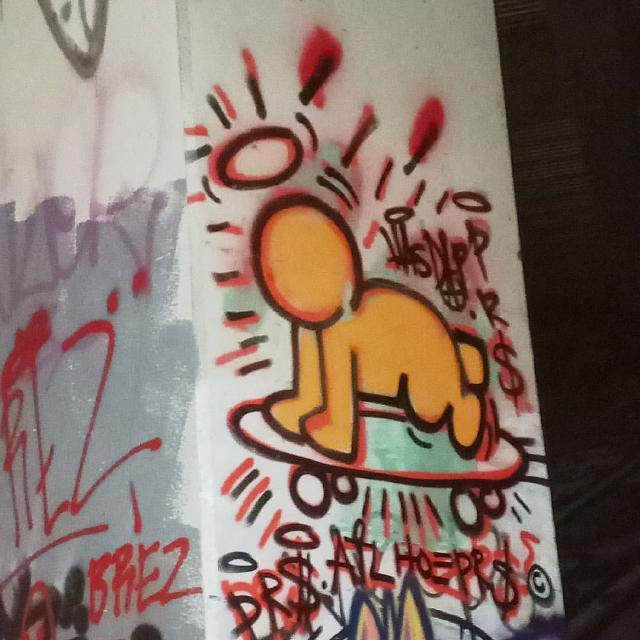-: (202, 125, 532, 492), (217, 517, 558, 637), (383, 195, 527, 406)
